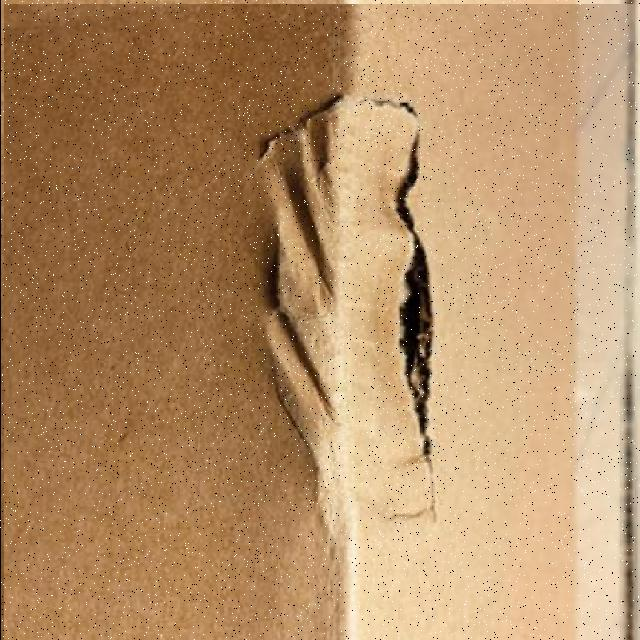defect: (3, 4, 634, 640)
